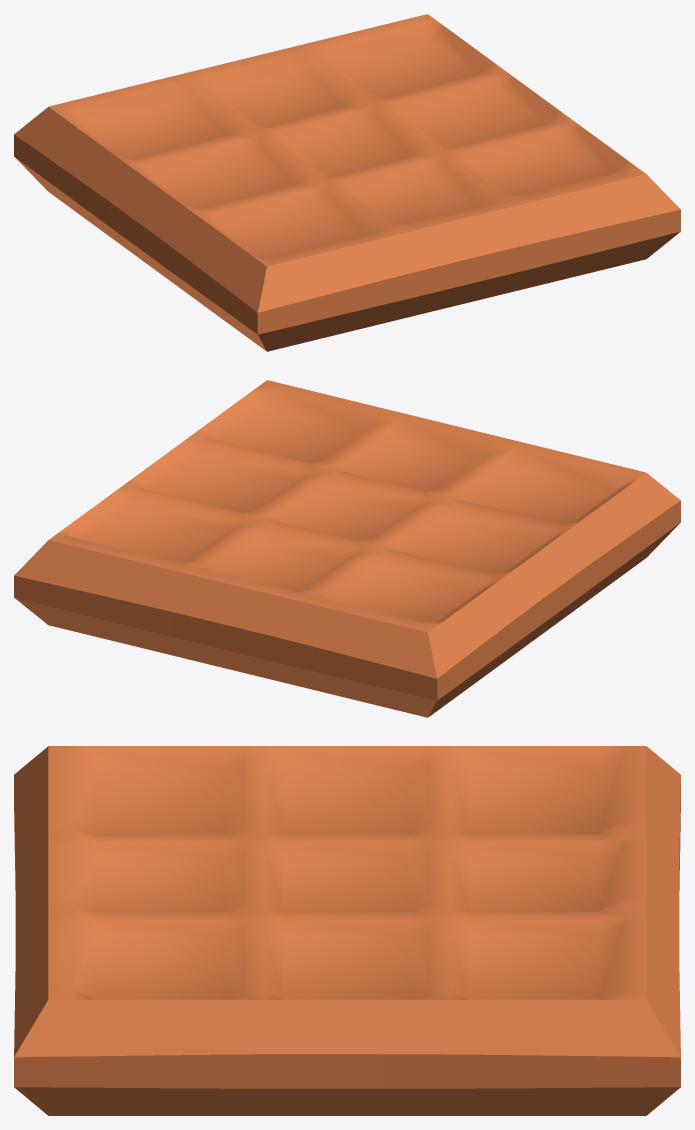
File: Tile_wafle_01.FBX
3 views of the same model, one above another, from view 1: azimuth 30°, elevation 25°; view 2: azimuth 150°, elevation 25°; view 3: azimuth 270°, elevation 25° (orthographic). The views are drawn at different scales.
Parts seen in each view (by area): view 1: Box007; view 2: Box007; view 3: Box007.
Boxes of the visible parts, box(x1,y1,x2,y2) form: Box007: box(14, 14, 680, 351); Box007: box(14, 380, 680, 717); Box007: box(14, 746, 680, 1115).
Bounding box in the file's own units: 22.34 × 4.3 × 22.29.
